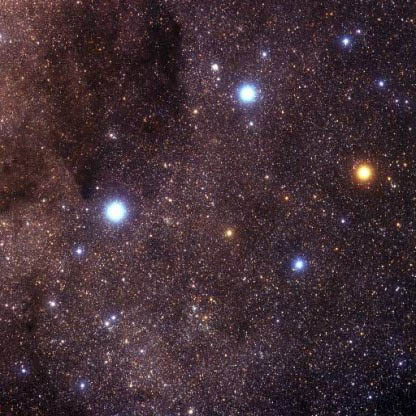Southern Cross: (98, 192, 138, 233), (346, 152, 383, 194), (234, 74, 261, 114), (284, 251, 311, 278)
